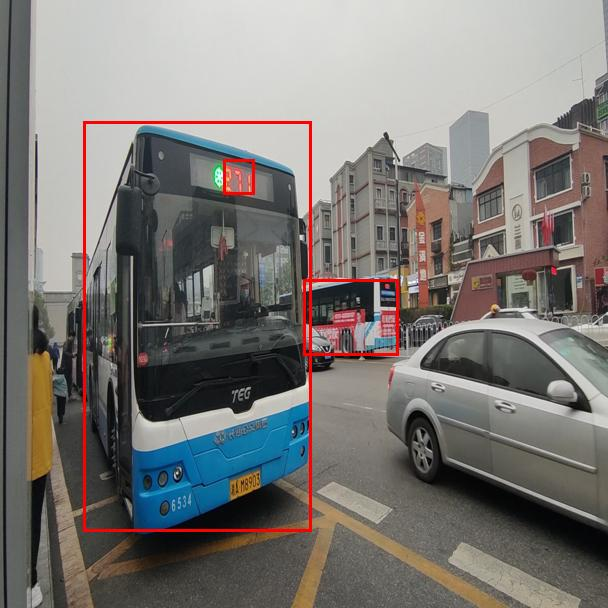bus: (83, 121, 311, 531), (303, 279, 398, 355)
screen: (223, 159, 254, 194)
